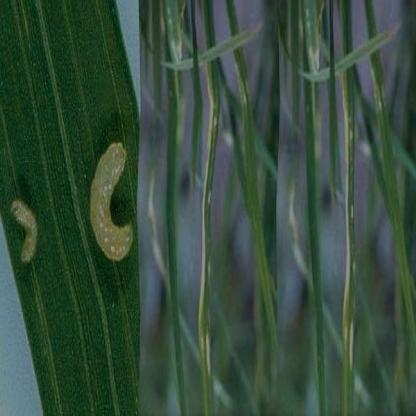whorl-maggot: (84, 140, 138, 269), (10, 192, 40, 272)
